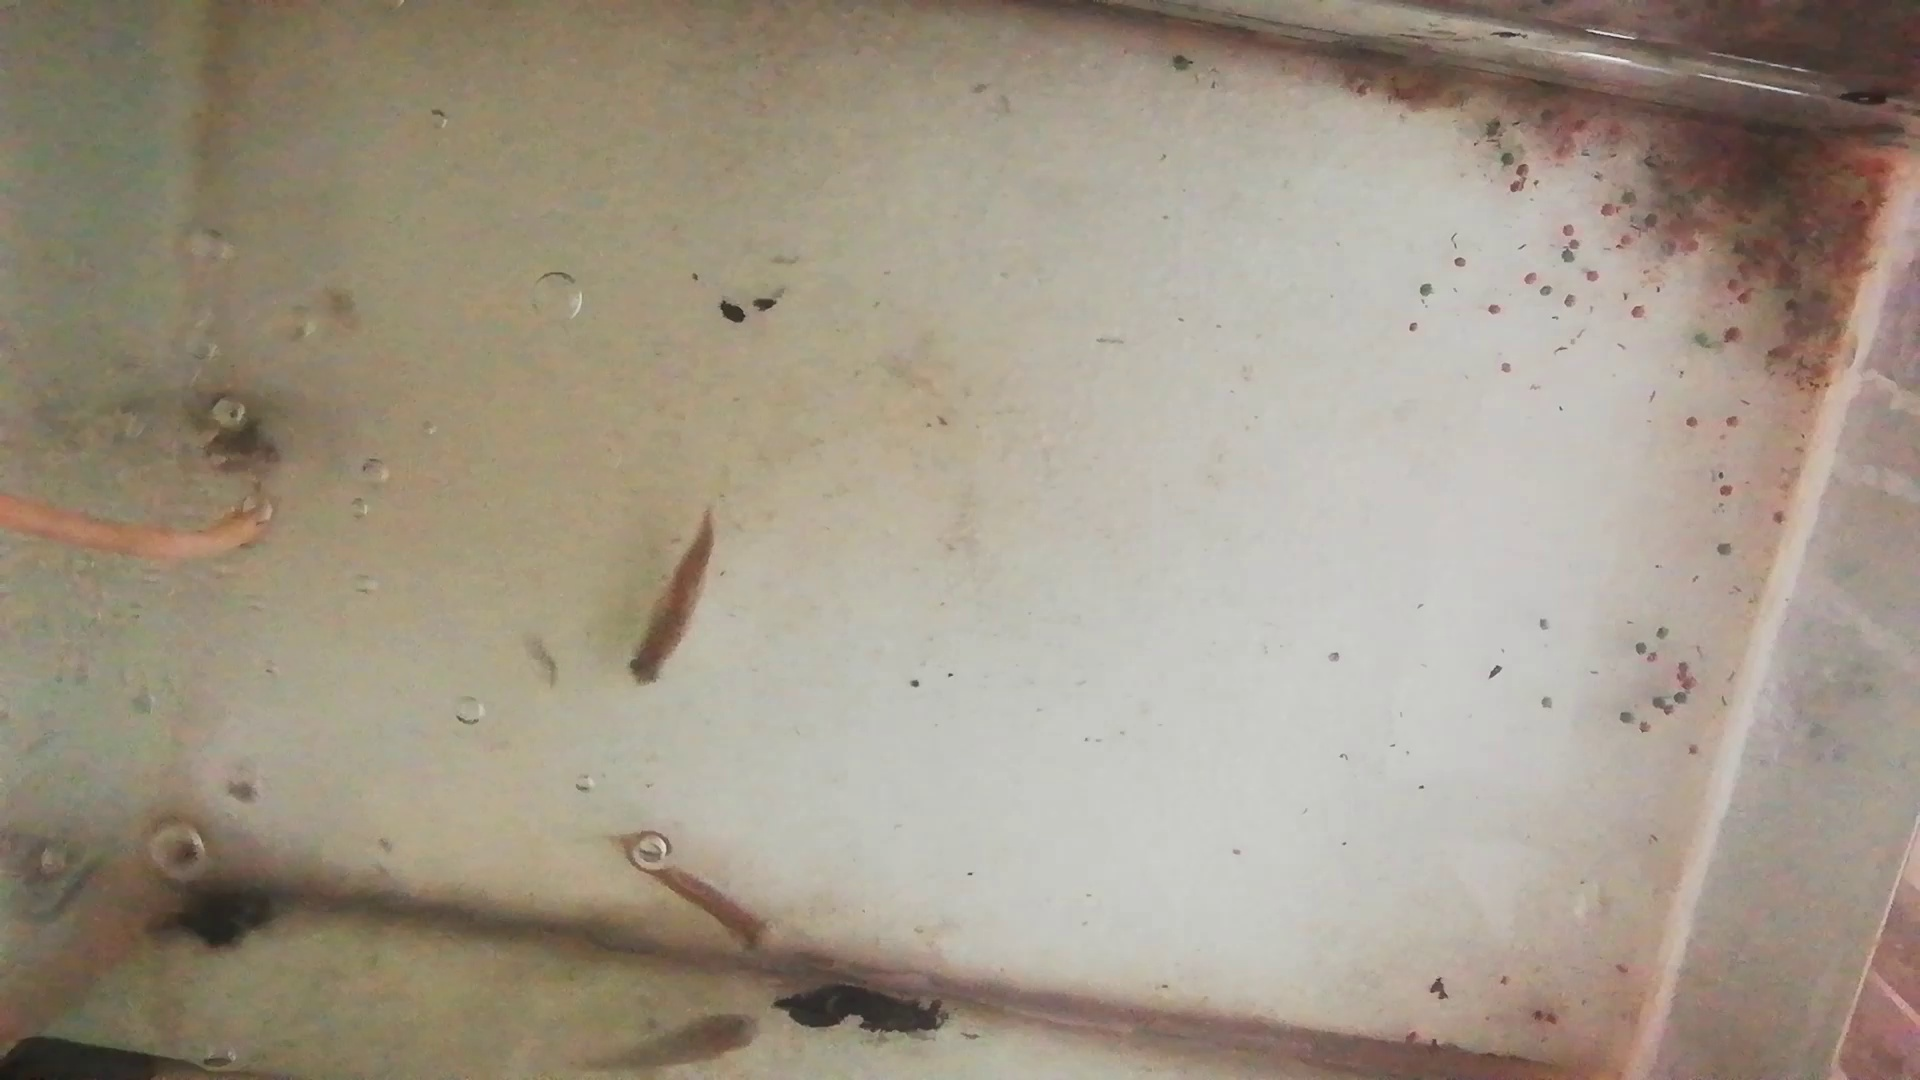fish: (624, 840, 771, 952), (630, 513, 723, 691)
